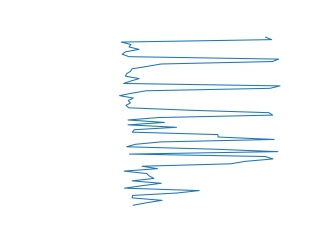crevasseRiverChannelBar: (119, 158, 281, 207)
majorRiverBedLagDeposit: (122, 119, 282, 162)
majorRiverChannelBar: (116, 35, 285, 116)
